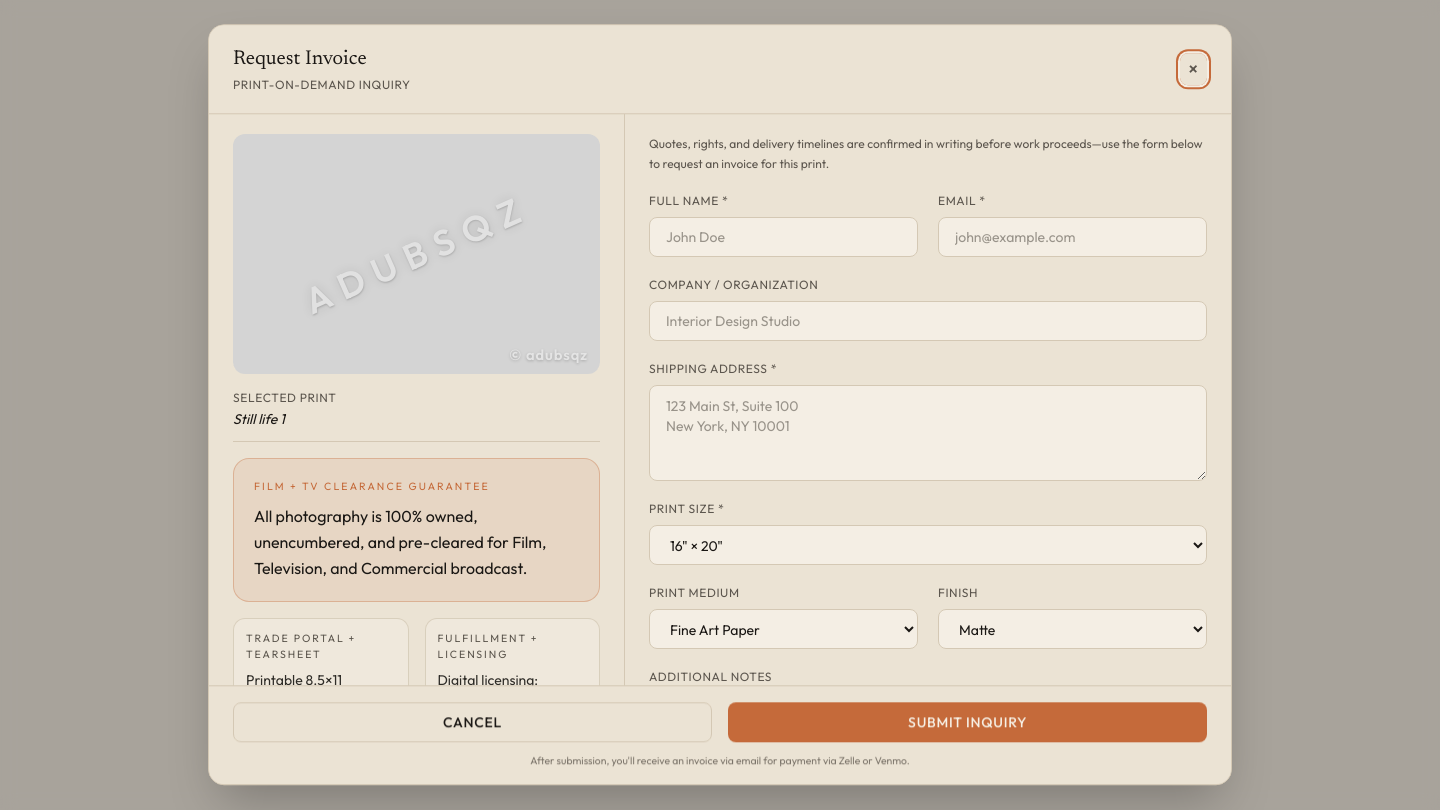
Scenario: InquiryModal (unit) › shows an error when submitPrintInquiry throws
Type "Jane Doe" into the field labelled "Full Name *" at (784, 237), box [649,217,918,257]
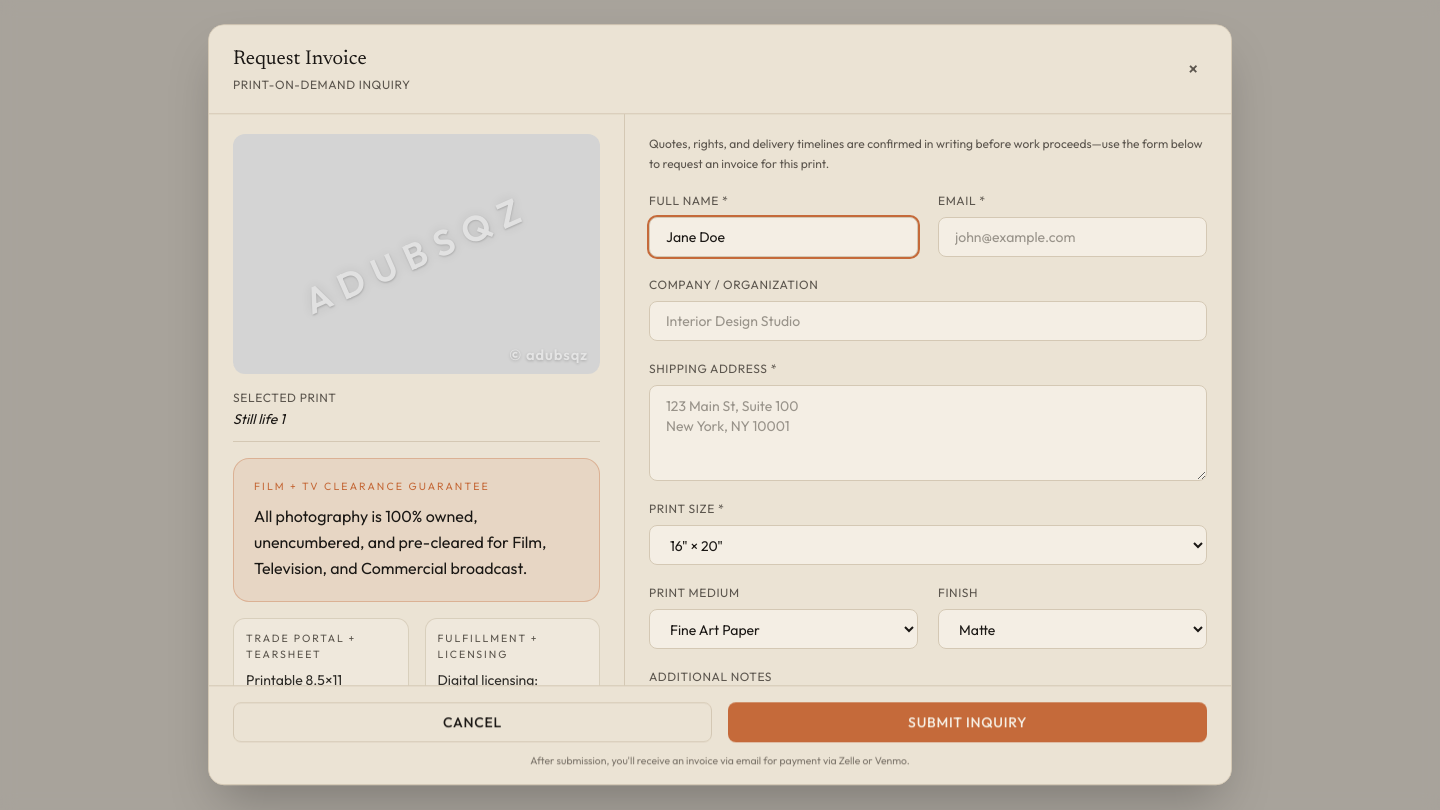
Type "jane@example.com" into the field labelled "Email *" at (1072, 237), box [938,217,1207,257]
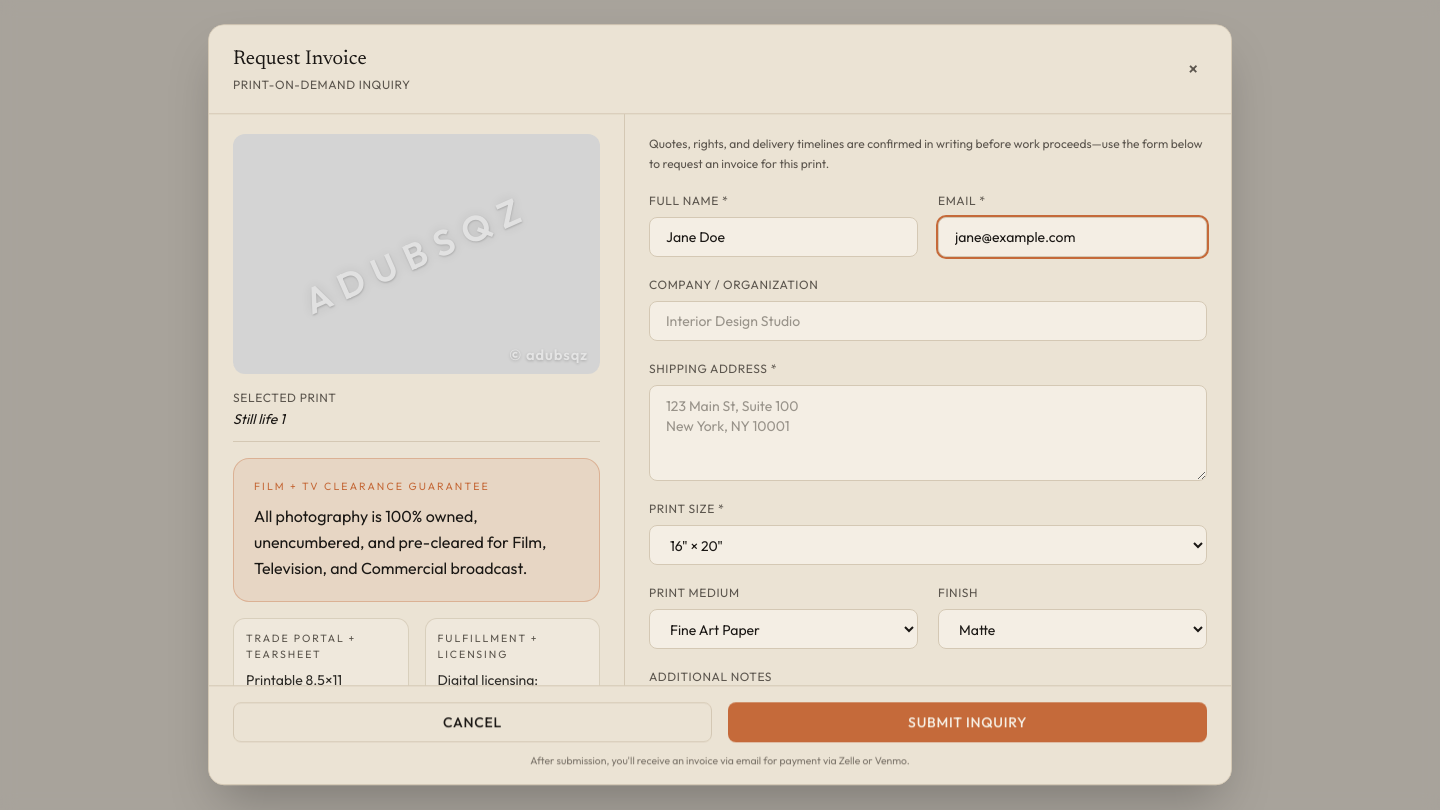
Type "123 Main St" into the text box labelled "Shipping Address *" at (928, 433), box [649,385,1207,481]
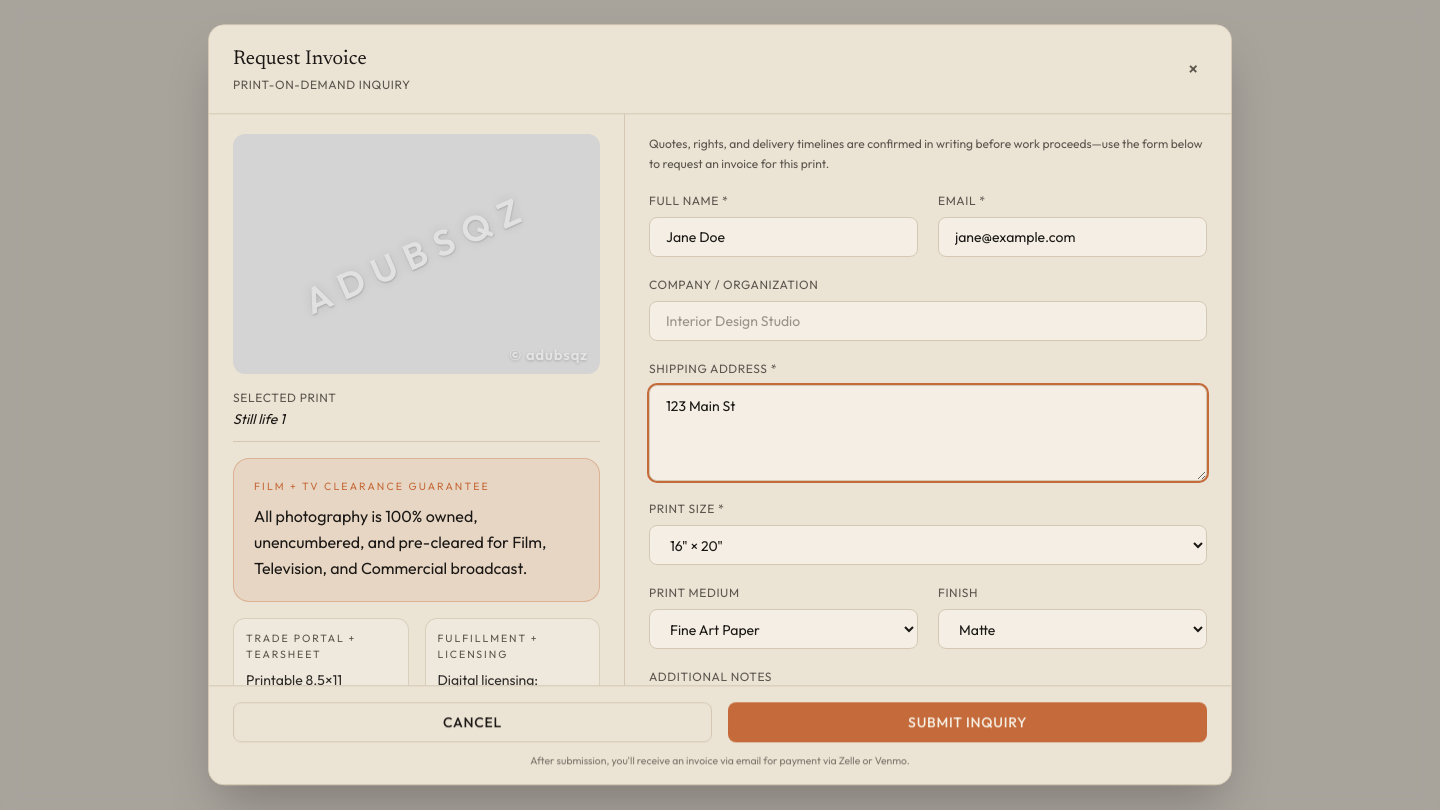
Click the button "Submit inquiry" at (968, 722), box [728,702,1207,742]
(page scrolled)
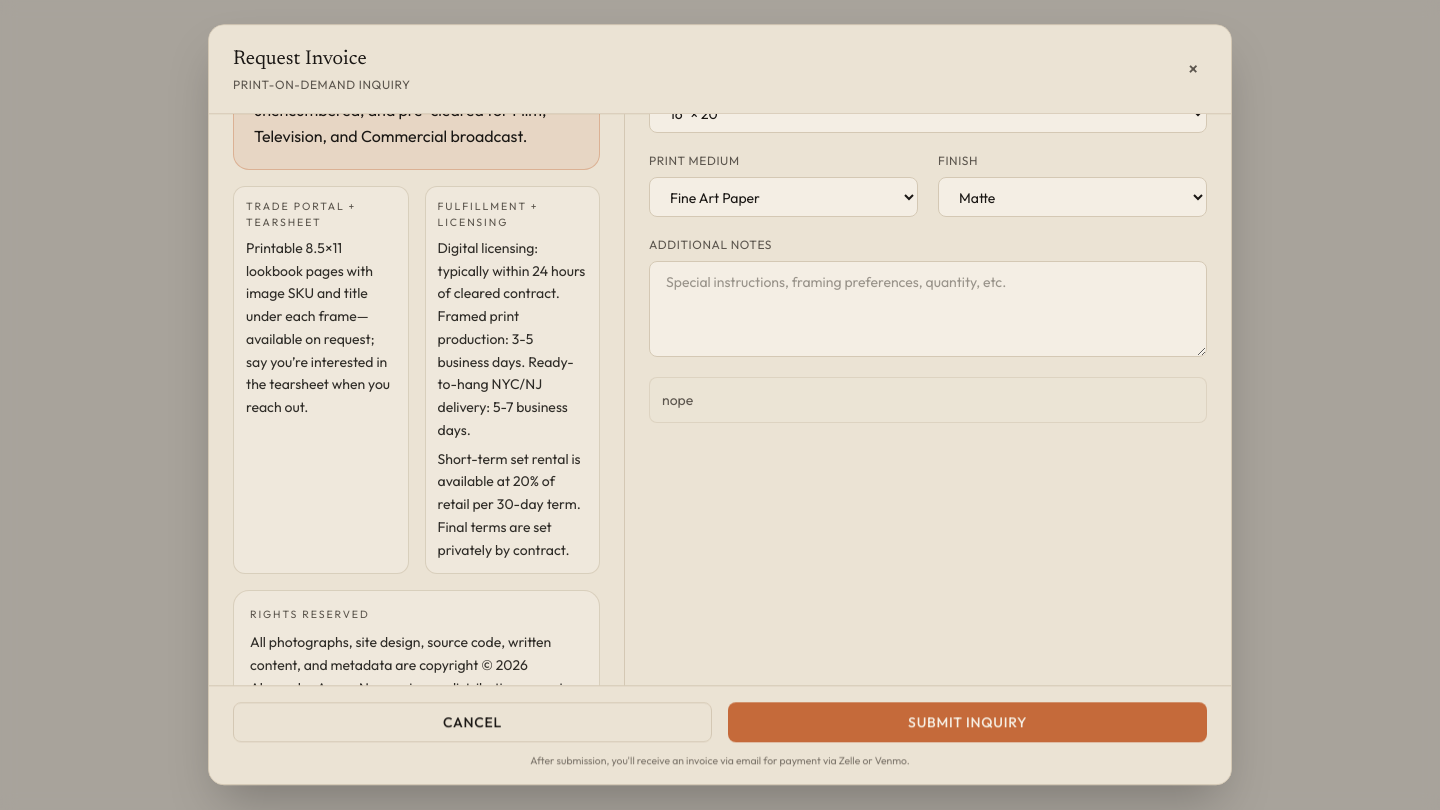
Expected: the text "nope" is shown, [662,391,693,409]
